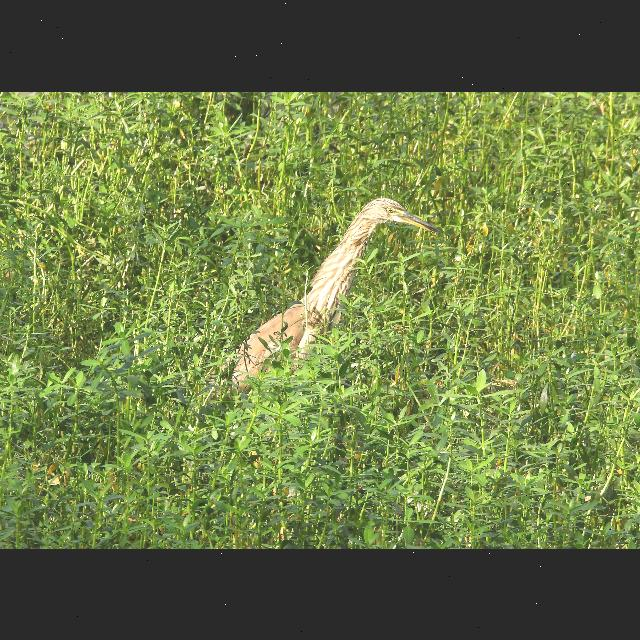heron: (227, 188, 438, 382)
